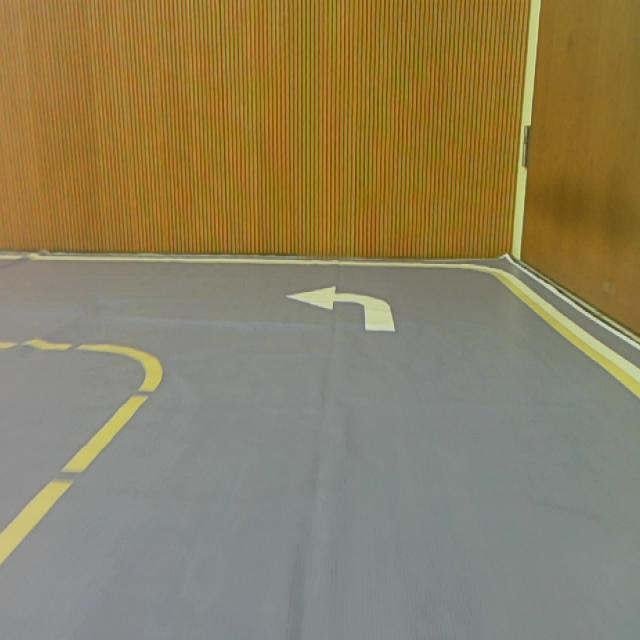left_lane: (0, 377, 163, 566)
right_lane: (492, 271, 640, 396)
